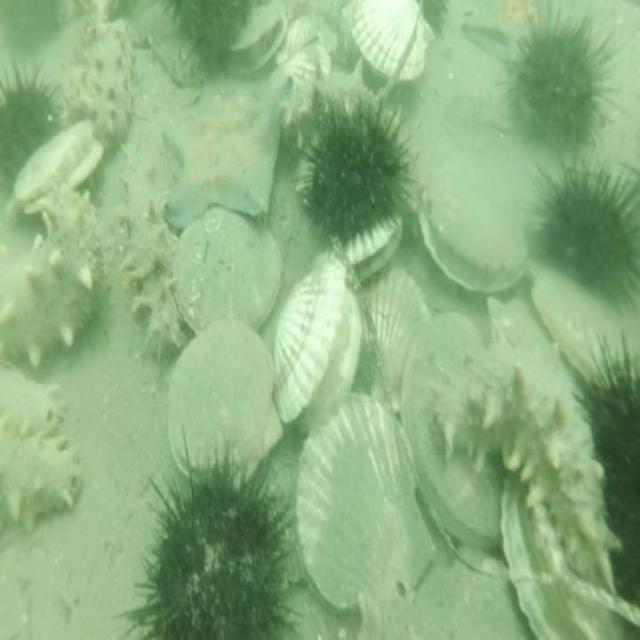echinus: (122, 433, 302, 640), (300, 88, 412, 246), (533, 154, 640, 312), (578, 330, 639, 606), (506, 10, 620, 150), (0, 58, 61, 188), (166, 0, 254, 82), (417, 0, 449, 38)
holothurian: (430, 335, 620, 591), (0, 183, 104, 374), (117, 109, 185, 370), (275, 54, 405, 153), (58, 16, 137, 147), (0, 427, 88, 534), (351, 581, 478, 640), (0, 357, 71, 436)
scallop: (295, 392, 437, 618), (400, 310, 506, 553), (497, 464, 624, 640), (167, 316, 285, 495), (416, 131, 535, 299), (270, 256, 364, 436), (172, 209, 286, 335), (530, 260, 640, 384), (354, 266, 434, 414), (14, 119, 105, 218), (350, 0, 438, 84), (221, 3, 288, 84), (335, 212, 406, 280), (484, 286, 554, 352), (272, 11, 334, 70), (266, 40, 332, 86)
starfish: (158, 76, 286, 231), (462, 0, 552, 66)
